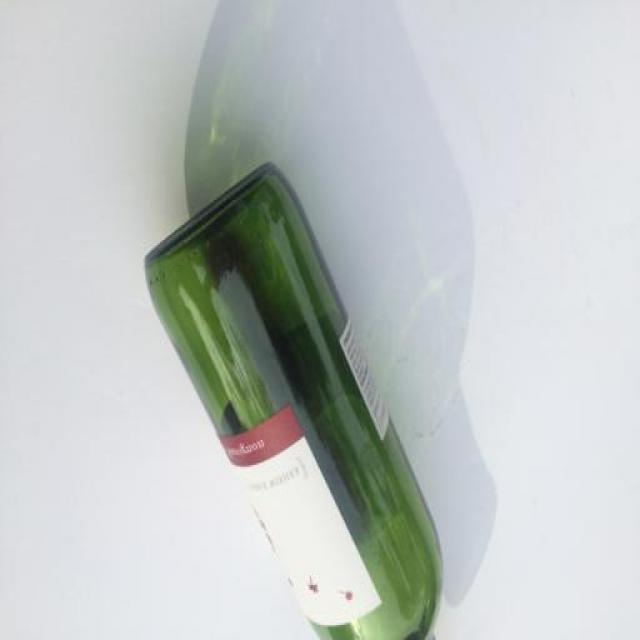glass: (142, 156, 444, 640)
